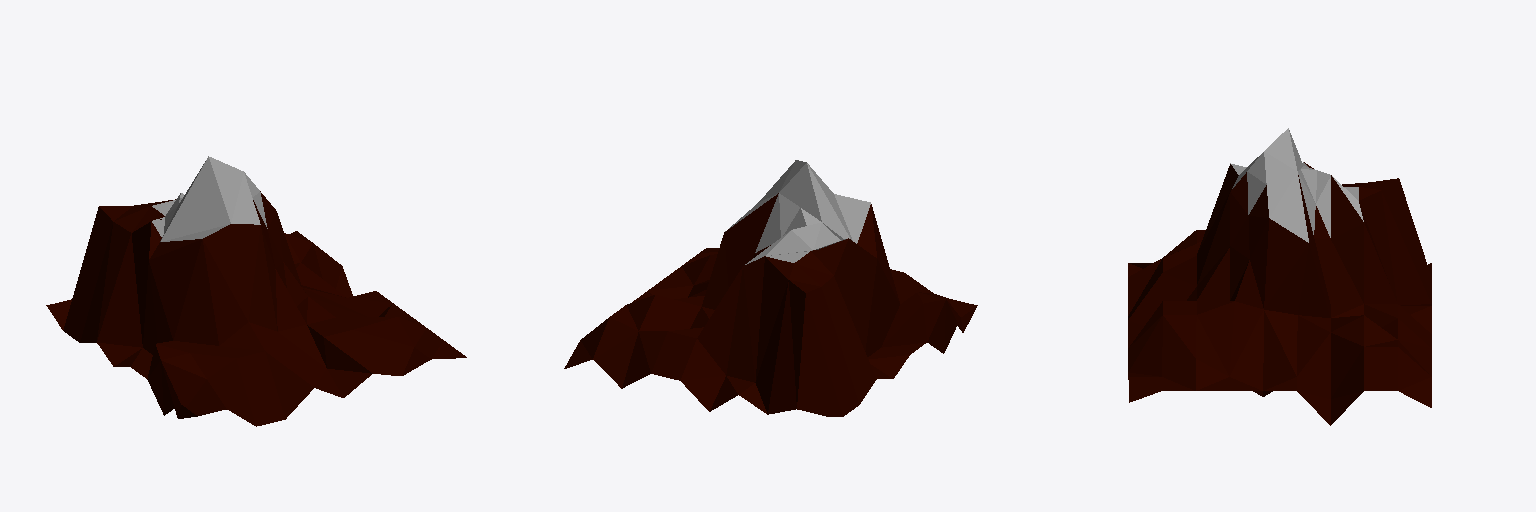
The model's file is mountain.obj.
3 views of the same model, side by side, from view 1: azimuth 30°, elevation 25°; view 2: azimuth 150°, elevation 25°; view 3: azimuth 270°, elevation 25° (orthographic).
Parts seen in each view (by area): view 1: Grid; view 2: Grid; view 3: Grid.
Boxes of the visible parts, x1,y1,x2,y2 form: Grid: [46, 156, 466, 426]; Grid: [564, 160, 977, 416]; Grid: [1128, 128, 1431, 425].
Size of the model in its own units: 16.66 by 12.48 by 16.